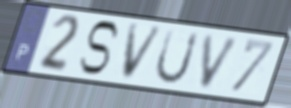2: (36, 12, 82, 73)
7: (229, 37, 276, 95)
S: (77, 19, 121, 77)
U: (153, 27, 202, 86)
V: (120, 22, 167, 82), (199, 32, 243, 92)
